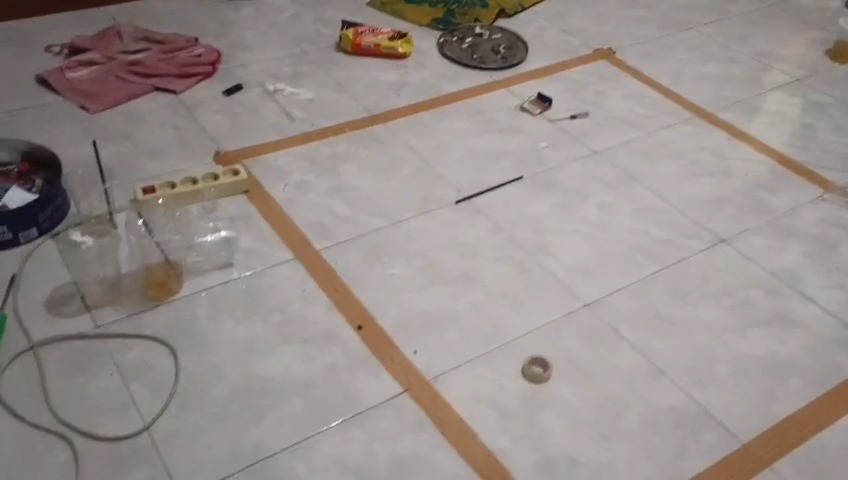floor marking: (214, 48, 847, 200), (248, 174, 512, 479), (696, 380, 847, 479)
